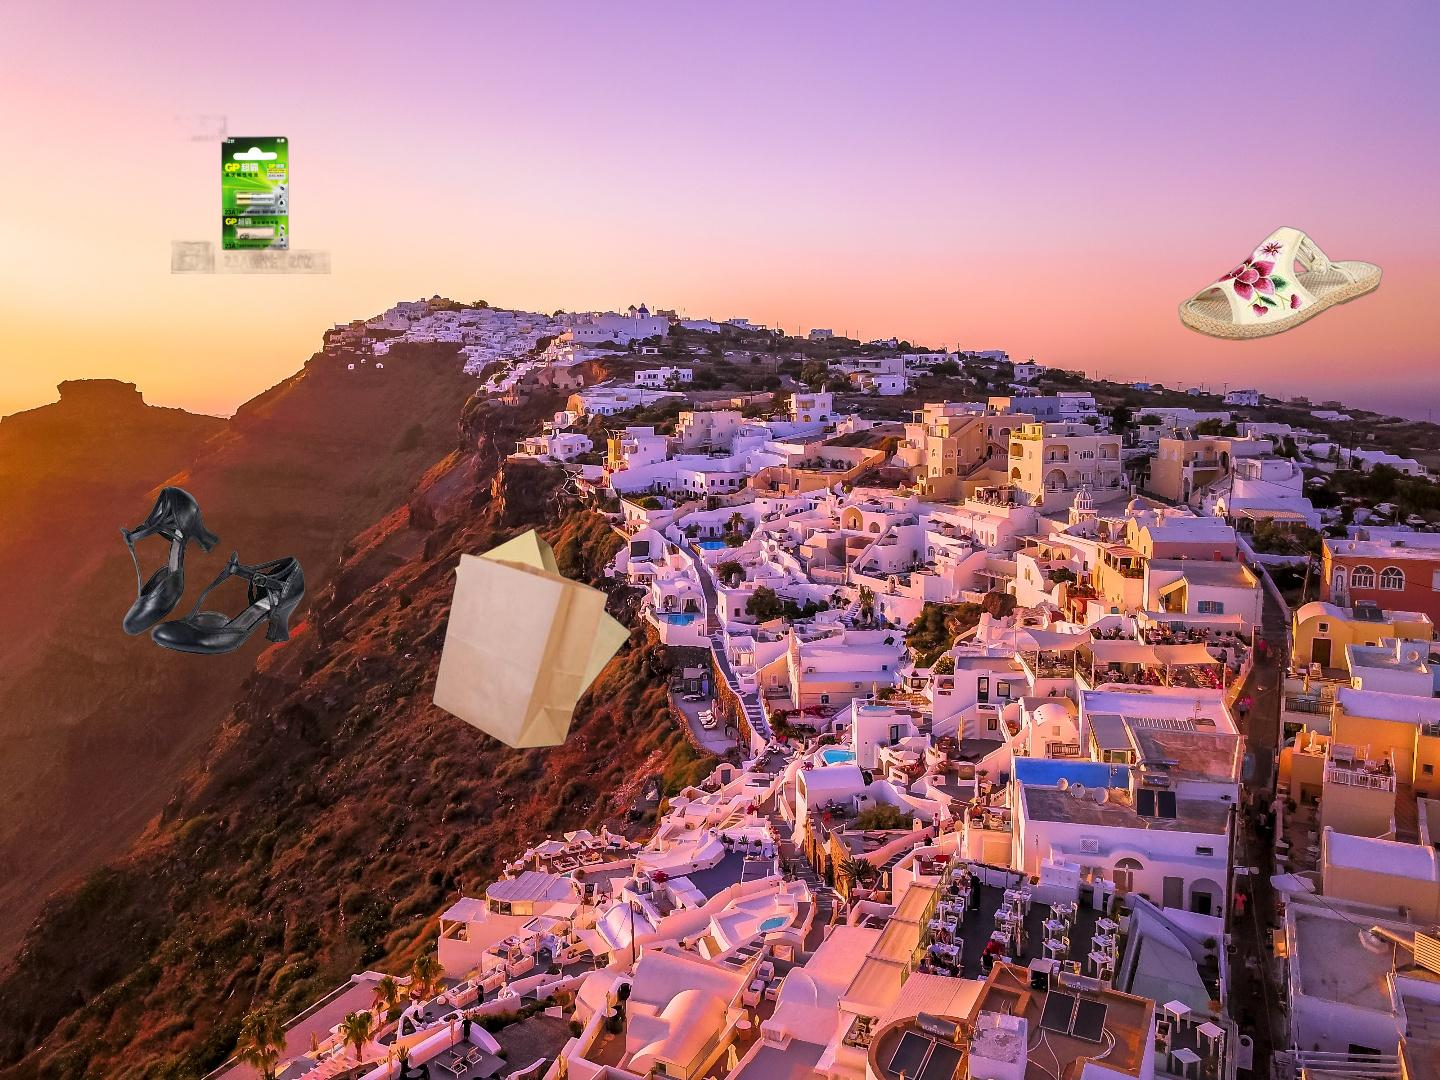battery: (171, 113, 331, 275)
paper-bag: (430, 528, 635, 752)
shoes: (116, 483, 308, 658), (1176, 223, 1384, 343)
